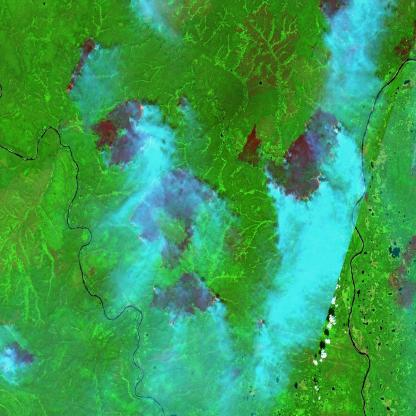fire: (124, 164, 223, 266), (268, 104, 347, 210), (149, 279, 225, 328), (65, 32, 100, 103), (1, 339, 39, 379), (113, 97, 154, 134), (254, 310, 279, 336)
